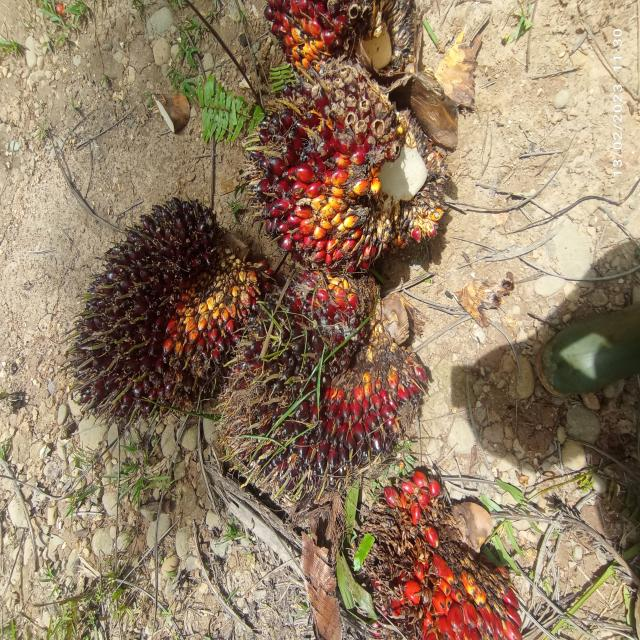fraksi 1: (209, 240, 458, 515), (41, 182, 280, 431), (214, 59, 474, 271)
fraksi 4: (327, 432, 533, 640)
